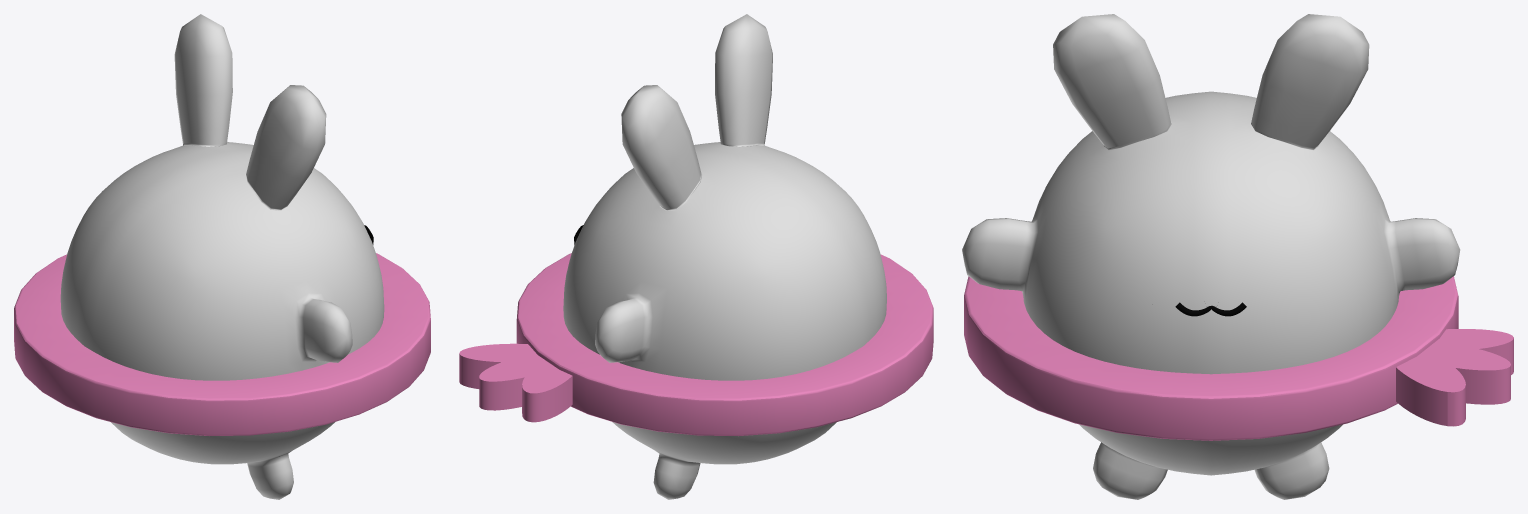
The model's file is ZOZO.glb.
3 renders of one model, left to right at view 1: azimuth 30°, elevation 25°; view 2: azimuth 150°, elevation 25°; view 3: azimuth 270°, elevation 25°, orthographic. The views are drawn at different scales.
Visible parts, largest first — view 1: Cube, Circle; view 2: Cube, Circle, Cylinder; view 3: Cube, Circle, Cylinder.
Boxes of the visible parts, x1,y1,x2,y2 form: Cube: (60,14,384,499); Circle: (14,253,430,435); Cube: (563,14,886,499); Circle: (516,253,933,436); Cylinder: (459,343,572,422); Cube: (962,14,1460,499); Circle: (964,276,1458,440); Cylinder: (1396,329,1513,426).
Size of the model in its own units: 2.18 by 2.39 by 2.43.
